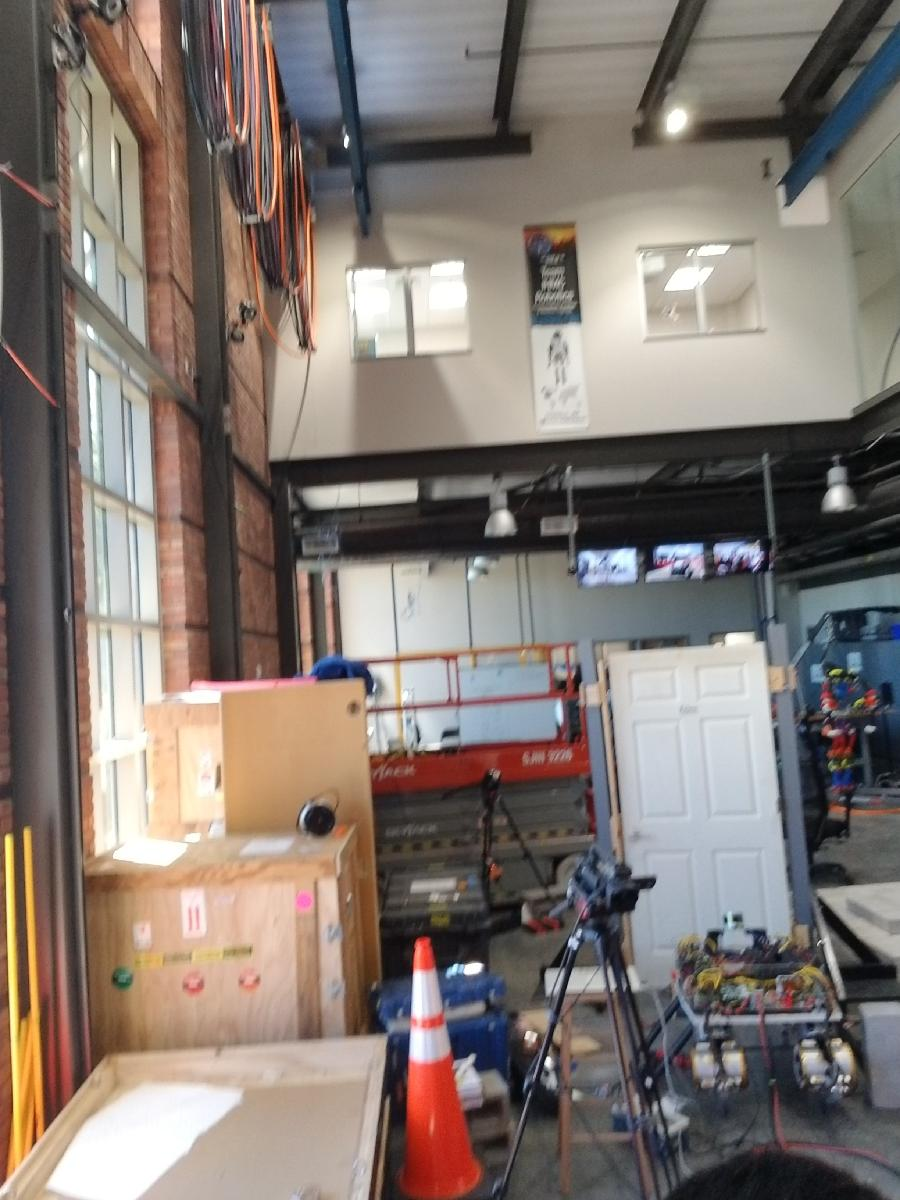door: (600, 640, 797, 1002)
doorHandle: (626, 825, 656, 846)
